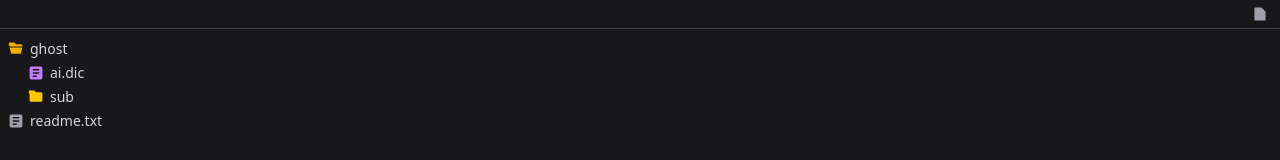
Scenario: FileTree › ディレクトリノードに aria-expanded が設定される
The width and height of the screenshot is (1280, 160).
Click the button "ghost" at {"x": 49, "y": 48}, box top-left (8, 37), bottom-right (1272, 61)
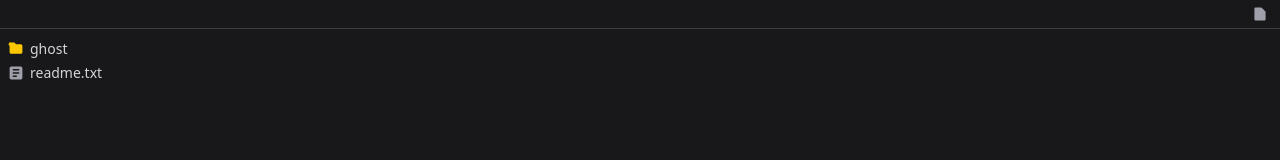
Expected: the list item "ghost" is collapsed, top-left (8, 37), bottom-right (1272, 61)
